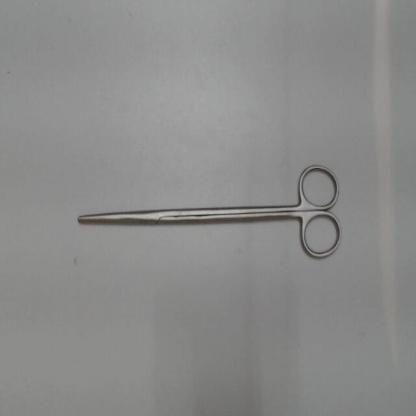9 Metzenbaum Scissors: (76, 158, 346, 264)
